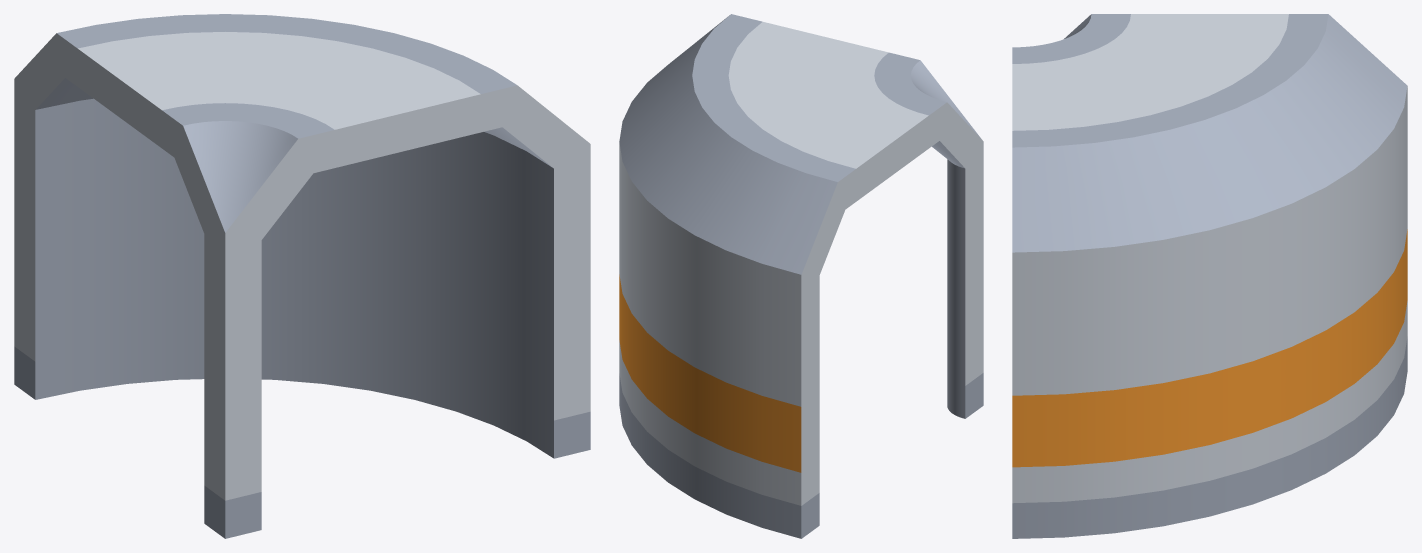
File: corridor_cornerRound.dae
3 renders of one model, left to right at view 1: azimuth 30°, elevation 25°; view 2: azimuth 150°, elevation 25°; view 3: azimuth 270°, elevation 25°, orthographic. The views are drawn at different scales.
Visible parts, largest first — view 1: corridor_cornerRound; view 2: corridor_cornerRound; view 3: corridor_cornerRound.
Boxes of the visible parts, x1,y1,x2,y2 form: corridor_cornerRound: (14, 14, 590, 538); corridor_cornerRound: (619, 14, 983, 538); corridor_cornerRound: (1012, 14, 1407, 538).
Bounding box in the file's own units: 1 × 1 × 1.
